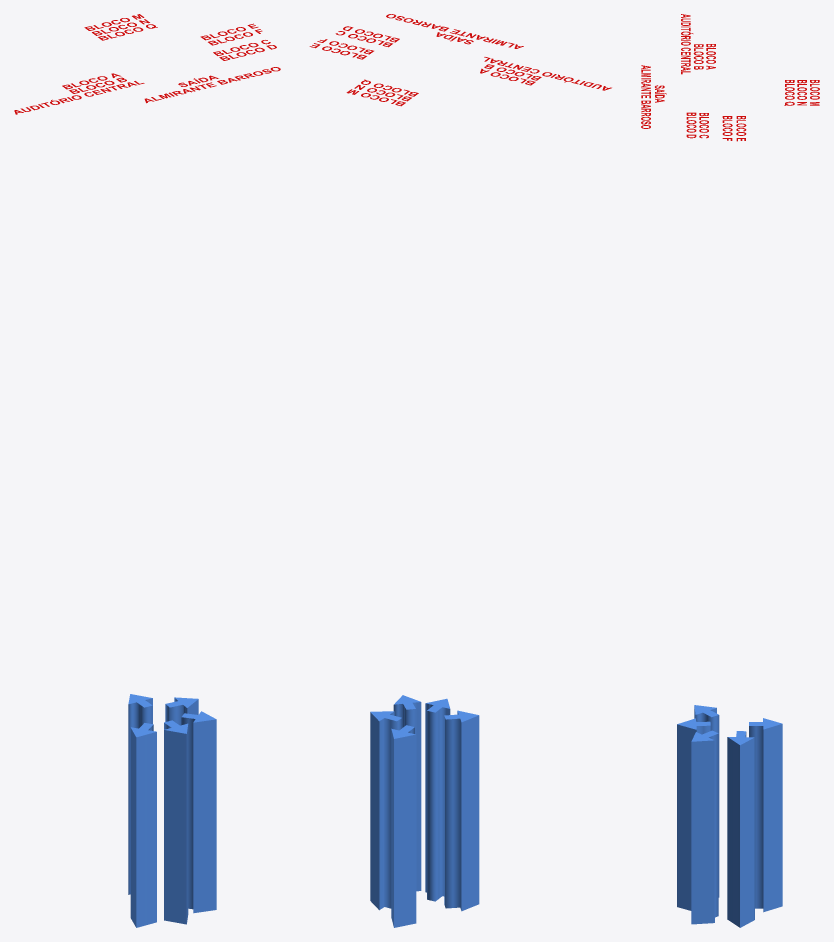
Rendered from bloco H - 0.glb.
3 views of the same model, side by side, from view 1: azimuth 30°, elevation 25°; view 2: azimuth 150°, elevation 25°; view 3: azimuth 270°, elevation 25° (orthographic). The views are drawn at different scales.
Parts seen in each view (by area): view 1: Curve.005, Curve.004, Curve.002, Curve.001, Curve.003; view 2: Curve.004, Curve.001, Curve.003, Curve.002, Curve.005; view 3: Curve.001, Curve.005, Curve.003, Curve.002, Curve.004, Text.007, Text.009.
Part boxes in pixels (x1,y1,x2,y2): Curve.005: (181, 711, 216, 913); Curve.004: (130, 723, 156, 927); Curve.002: (164, 720, 188, 924); Curve.001: (128, 694, 152, 894); Curve.003: (165, 697, 198, 725); Curve.004: (444, 710, 479, 911); Curve.001: (391, 725, 416, 927); Curve.003: (370, 711, 402, 910); Curve.002: (425, 698, 450, 901); Curve.005: (393, 695, 421, 891); Curve.001: (749, 718, 782, 912); Curve.005: (691, 730, 718, 924); Curve.003: (727, 731, 754, 927); Curve.002: (677, 718, 710, 910); Curve.004: (694, 705, 719, 897); Text.007: (641, 65, 650, 128); Text.009: (681, 14, 693, 74).
Bounding box in the file's own units: 0.1967 × 0.5868 × 0.1168.
